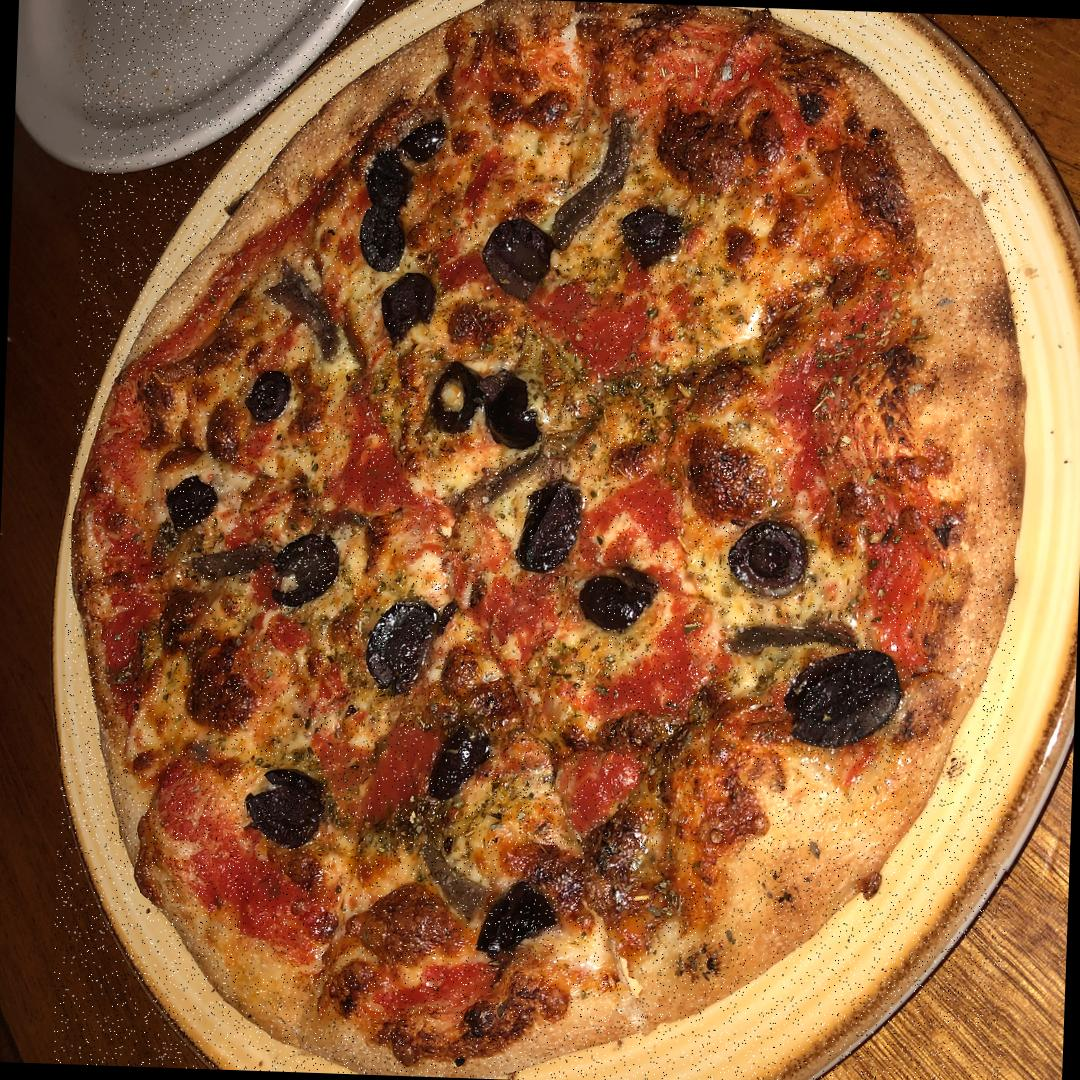Olives: (786, 648, 904, 754), (363, 596, 443, 696), (360, 148, 413, 274), (518, 476, 583, 574), (483, 216, 558, 299), (247, 768, 324, 848), (575, 562, 658, 636), (481, 879, 558, 956), (732, 521, 807, 597), (272, 529, 344, 608), (479, 368, 544, 450), (428, 722, 494, 802), (377, 272, 437, 347), (619, 204, 683, 266), (429, 359, 484, 430), (165, 472, 219, 532), (242, 370, 294, 428), (393, 112, 450, 163)
Pizza: (50, 0, 1037, 1080)
